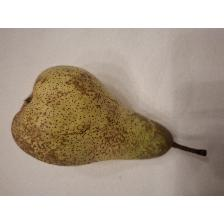Birne: (10, 61, 212, 173)
